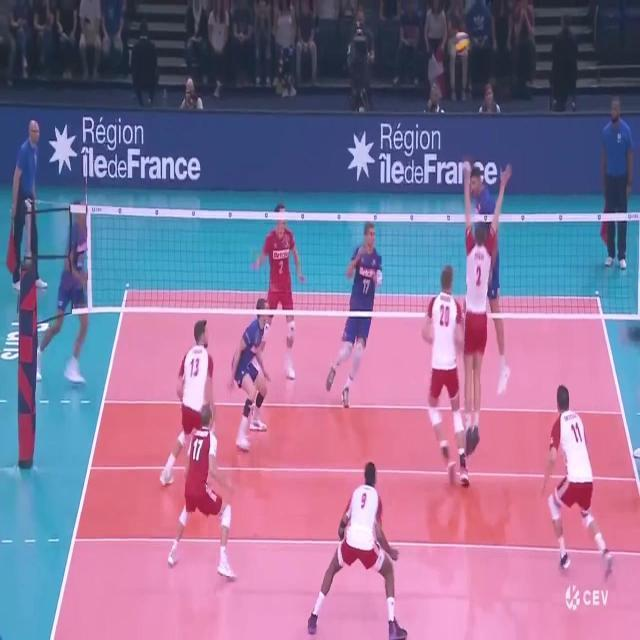volleyball: (455, 32, 472, 56)
